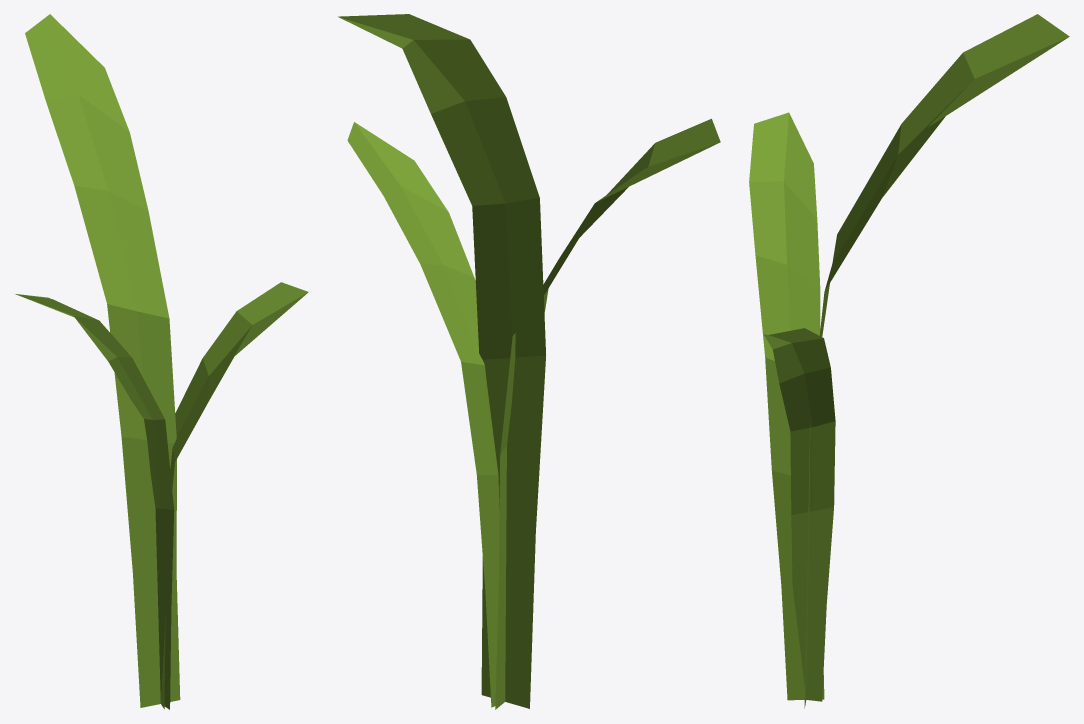
The model's file is tallgrass2.fbx.
The picture shows the model from 3 angles, left to right: view 1: azimuth 30°, elevation 25°; view 2: azimuth 150°, elevation 25°; view 3: azimuth 270°, elevation 25°; orthographic projection. The views are drawn at different scales.
Visible parts, largest first — view 1: tallgrass2; view 2: tallgrass2; view 3: tallgrass2.
Boxes of the visible parts, x1,y1,x2,y2 form: tallgrass2: (15, 14, 308, 709); tallgrass2: (338, 14, 720, 709); tallgrass2: (749, 14, 1069, 708).
Size of the model in its own units: 138 by 277 by 121.
